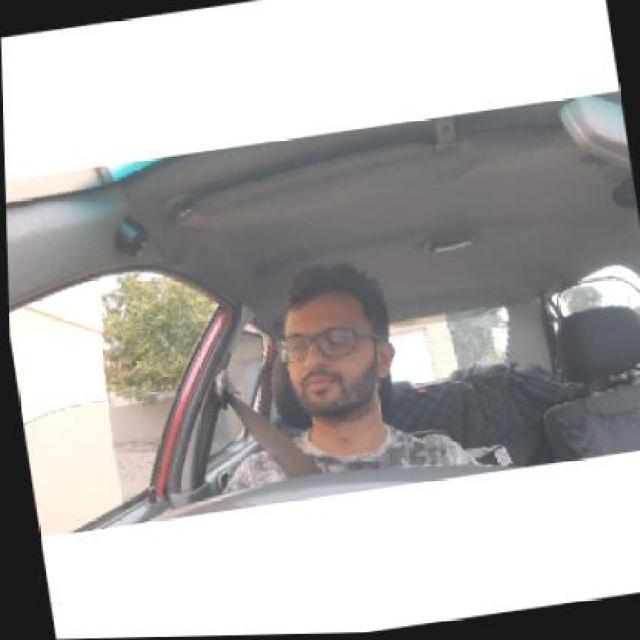drowsy: (273, 273, 396, 412)
